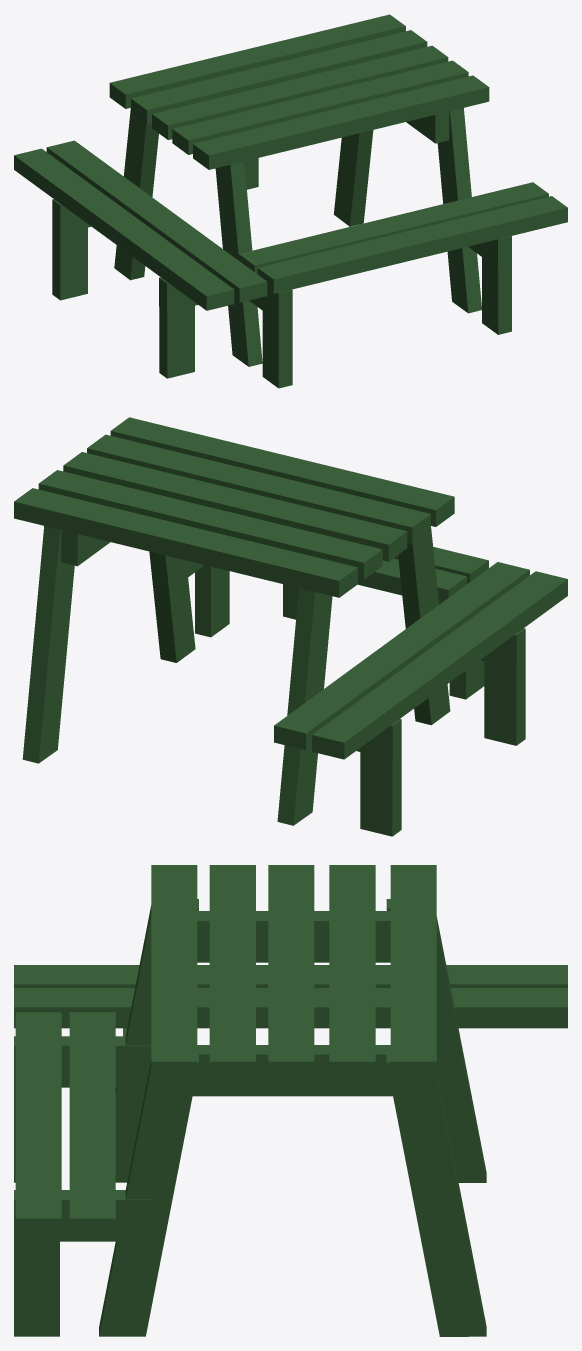
File: picnic_table2.dae
3 views of the same model, one above another, from view 1: azimuth 30°, elevation 25°; view 2: azimuth 150°, elevation 25°; view 3: azimuth 270°, elevation 25° (orthographic). The views are drawn at different scales.
Visible parts, largest first — view 1: table; view 2: table; view 3: table.
Part boxes in pixels (x1,y1,x2,y2): table: (14,14,567,388); table: (14,417,567,836); table: (14,865,567,1336).
Bounding box in the file's own units: 1.31 × 0.7014 × 1.2.
